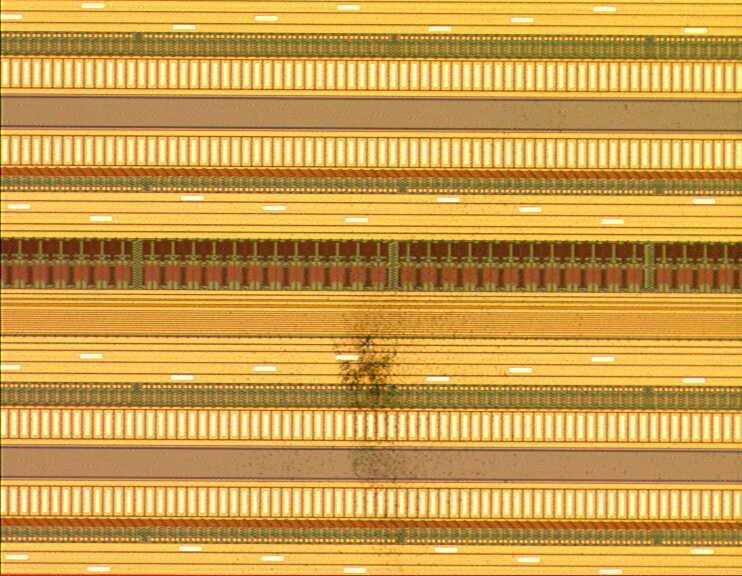PO CONTAMINATION: (237, 185, 548, 564)
